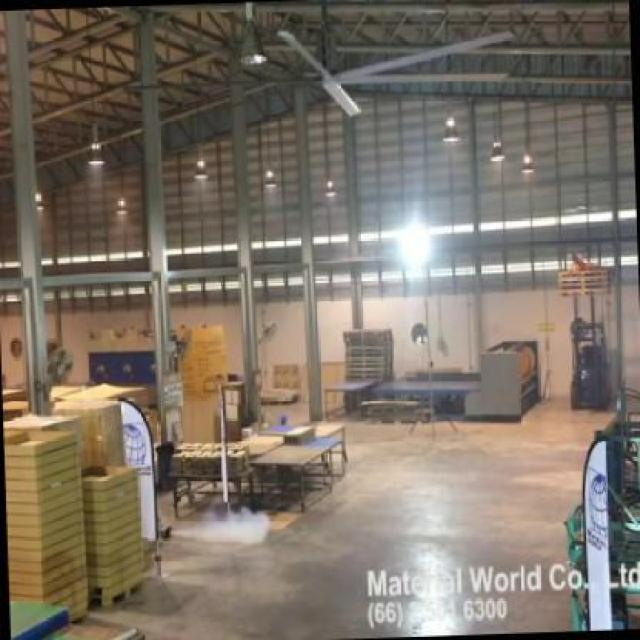fire: (195, 502, 276, 550)
